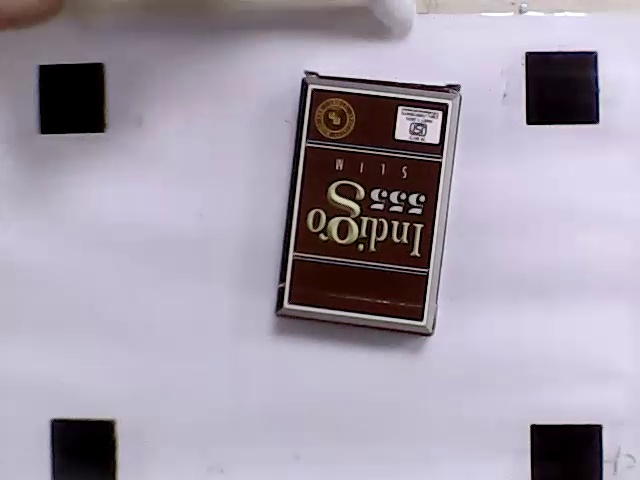BEX: (284, 86, 449, 324)
